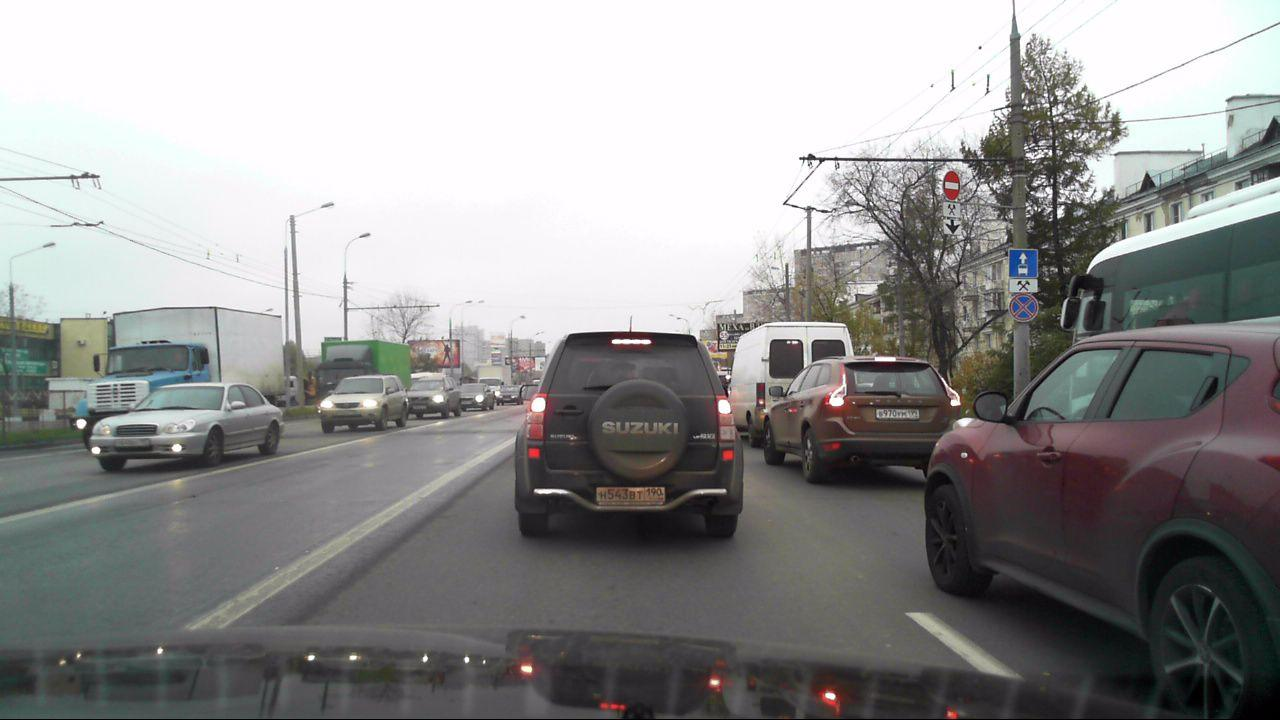3_1: (942, 171, 961, 199)
3_27: (1009, 293, 1039, 322)
5_14_1: (1008, 249, 1038, 277)
8_14: (943, 219, 962, 236)
8_5_2: (1008, 278, 1039, 293), (942, 202, 961, 219)
